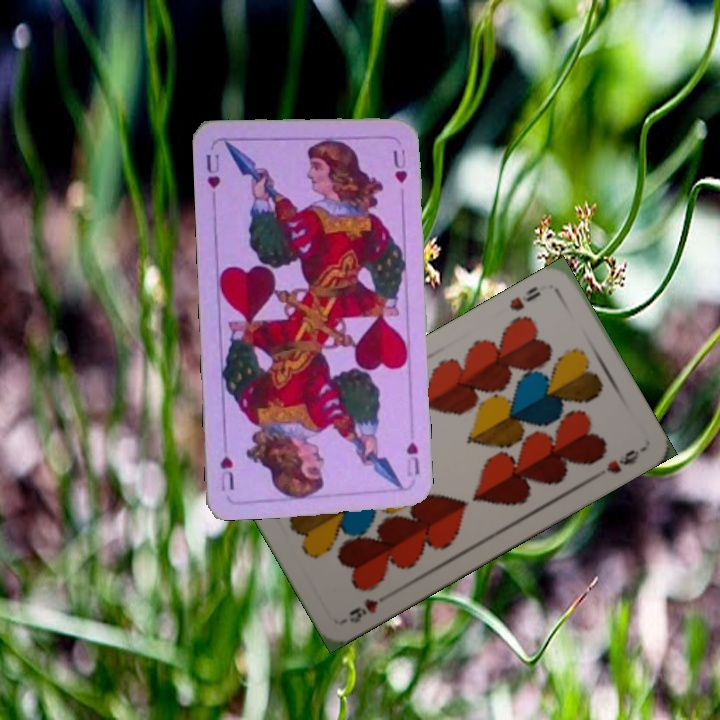H9: (505, 282, 543, 314), (345, 594, 381, 626)
HU: (201, 150, 223, 191), (402, 438, 422, 479)
